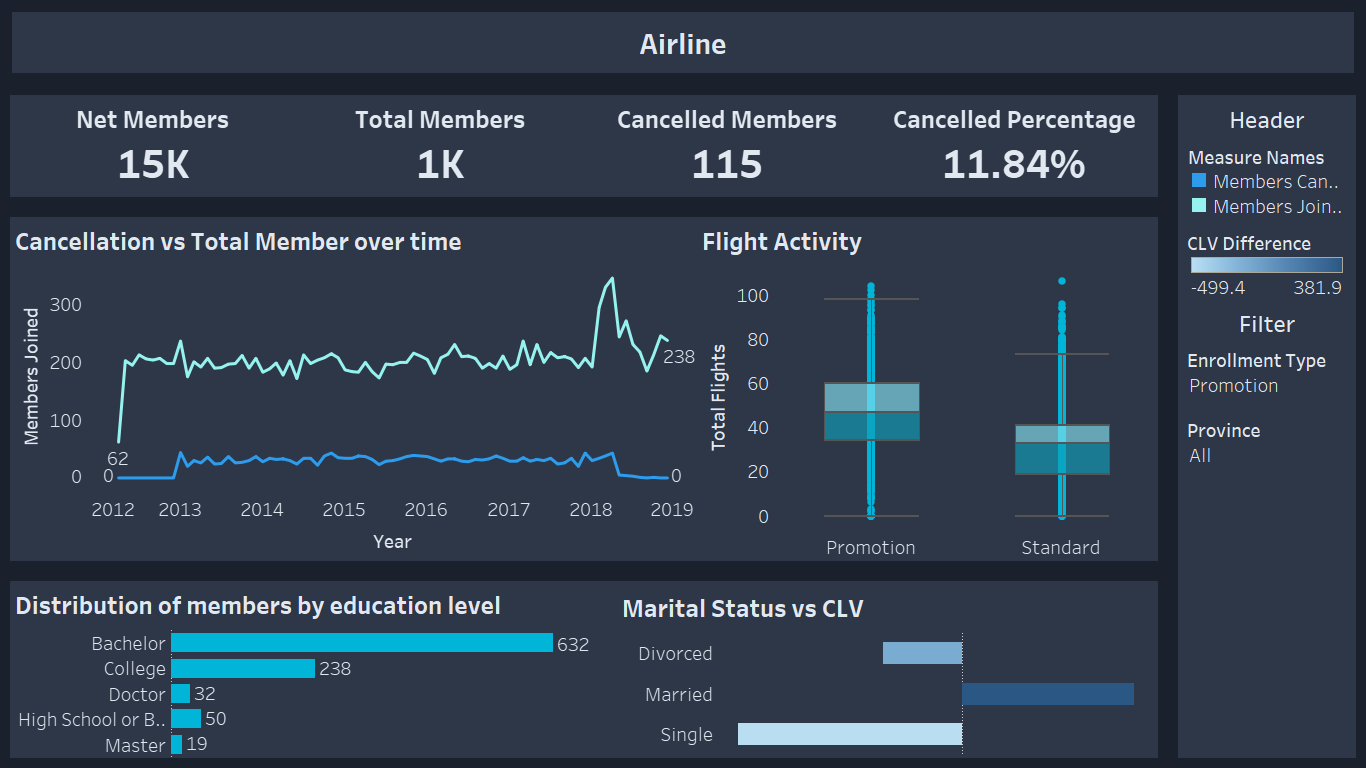

Layout of this report page (visuals, bound fields, positions):
{"tool":"tableau","page":{"name":"Overview Dashboard_1","canvas":[1366,768],"ordinal":0},"visuals":[{"type":"text","box":[0,0,1366,85]},{"type":"worksheet","title":"Net Members","mark":"Automatic","box":[10,95,287,102]},{"type":"worksheet","title":"Total Loyalty Member","mark":"Automatic","box":[297,95,287,102]},{"type":"worksheet","title":"Cancelled Members","mark":"Automatic","box":[584,95,287,102]},{"type":"worksheet","title":"Cancelled percentage","mark":"Automatic","box":[871,95,287,102]},{"type":"text","box":[1183,100,168,38]},{"type":"legend","title":"Members Over Time","param":"[federated.07njbpw0d6ebah1er6xxw08yk348].[:Measure Names]","box":[1183,138,168,84]},{"type":"worksheet","title":"Members Over Time","mark":"Line","rows":["Calculation_1843098165513715720","Calculation_1843098165414473730"],"cols":["Calculation_1843098165423116292"],"box":[10,217,687,344]},{"type":"worksheet","title":"Fligh Activity","mark":"Circle","rows":["Total Flights"],"cols":["Enrollment Type"],"box":[697,217,461,344]},{"type":"legend","title":"Maritial status vs CLV","param":"[federated.07njbpw0d6ebah1er6xxw08yk348].[usr:Calculation_1507298518618861568:qk","box":[1183,222,168,81]},{"type":"text","box":[1183,303,168,38]},{"type":"filter","title":"Cancelled Members","param":"[federated.07njbpw0d6ebah1er6xxw08yk348].[none:Enrollment Type:nk]","box":[1183,341,168,70]},{"type":"filter","title":"Distribution of members by education level","param":"[federated.07njbpw0d6ebah1er6xxw08yk348].[none:Province:nk]","box":[1183,411,168,70]},{"type":"worksheet","title":"Distribution of members by education level","mark":"Automatic","rows":["Education"],"cols":["Loyalty Number"],"box":[10,581,604,177]},{"type":"worksheet","title":"Maritial status vs CLV","mark":"Automatic","rows":["Marital Status"],"cols":["Calculation_1507298518618861568"],"box":[614,581,544,177]}]}

Visuals, with their boxes in screenshot pixels (x1, y1, x2, y2), scaled from the page's 1366x768 canvas onto the 1366x768 screenshot:
text: [0,0,1365,85]
"Net Members" worksheet: [10,95,297,197]
"Total Loyalty Member" worksheet: [297,95,584,197]
"Cancelled Members" worksheet: [584,95,871,197]
"Cancelled percentage" worksheet: [871,95,1158,197]
text: [1183,100,1351,138]
"Members Over Time" legend: [1183,138,1351,222]
"Members Over Time" worksheet (Line marks): [10,217,697,561]
"Fligh Activity" worksheet (Circle marks): [697,217,1158,561]
"Maritial status vs CLV" legend: [1183,222,1351,303]
text: [1183,303,1351,341]
"Cancelled Members" filter: [1183,341,1351,411]
"Distribution of members by education level" filter: [1183,411,1351,481]
"Distribution of members by education level" worksheet: [10,581,614,758]
"Maritial status vs CLV" worksheet: [614,581,1158,758]
